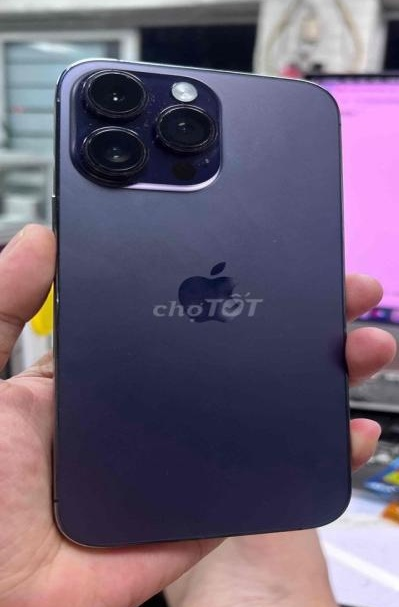scratch: (93, 82, 176, 156), (268, 235, 281, 249)
